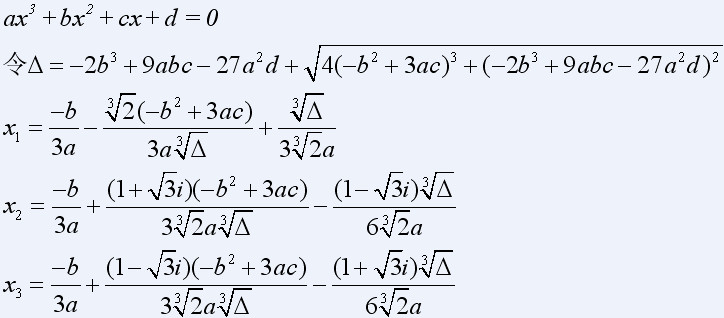cube: (528, 49, 543, 64), (446, 50, 458, 67), (28, 1, 37, 14), (109, 49, 117, 62)
division: (105, 281, 308, 290), (101, 124, 254, 134), (104, 204, 310, 211), (330, 281, 456, 292), (331, 204, 460, 213), (276, 124, 338, 134)
sqrt: (301, 40, 724, 86)
square: (226, 171, 238, 188), (170, 95, 183, 107), (226, 251, 236, 265), (372, 51, 379, 66)
